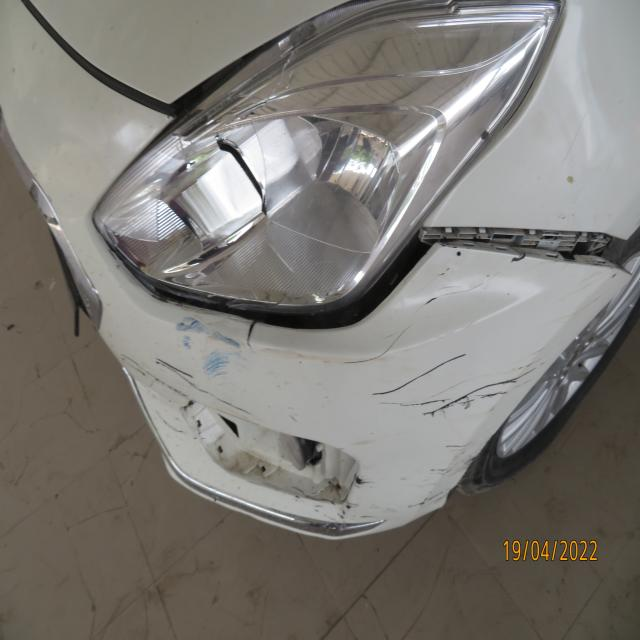damage: (362, 259, 548, 525), (116, 80, 294, 282), (176, 385, 361, 518), (391, 193, 631, 285), (118, 326, 234, 451), (239, 313, 266, 342), (53, 87, 53, 88)
